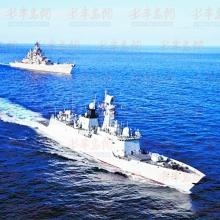warship: (45, 86, 207, 195), (9, 39, 76, 74)
